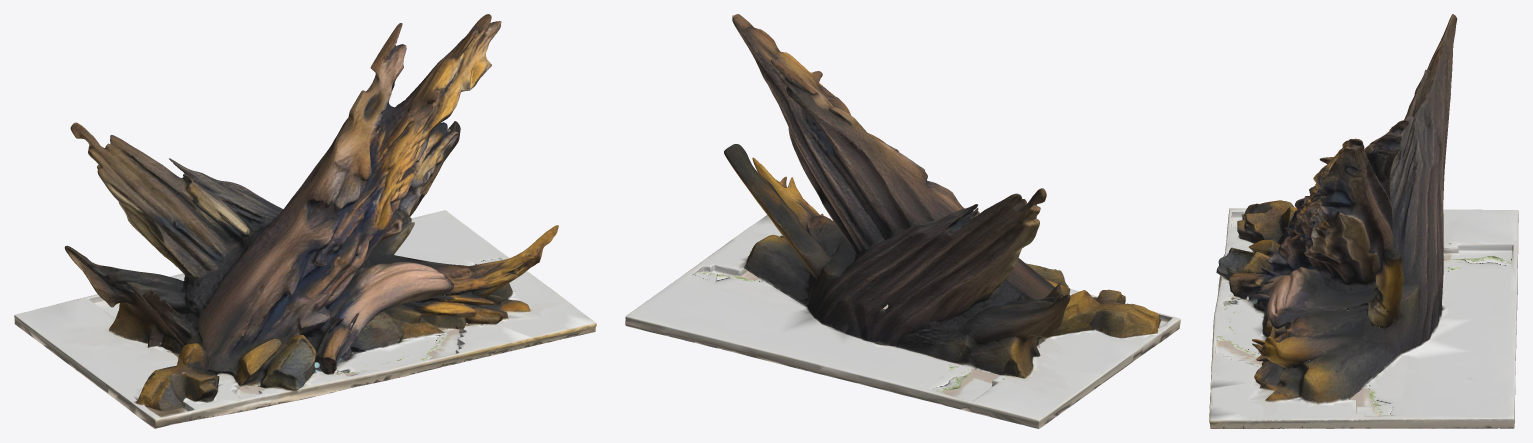
File: nature10-v7.glb
3 renders of one model, left to right at view 1: azimuth 30°, elevation 25°; view 2: azimuth 150°, elevation 25°; view 3: azimuth 270°, elevation 25°, orthographic. The views are drawn at different scales.
Visible parts, largest first — view 1: tripo_node_f580718a-828c-46c9-9f06-fc49a4ff210d; view 2: tripo_node_f580718a-828c-46c9-9f06-fc49a4ff210d; view 3: tripo_node_f580718a-828c-46c9-9f06-fc49a4ff210d.
Boxes of the visible parts, box(x1,y1,x2,y2) form: tripo_node_f580718a-828c-46c9-9f06-fc49a4ff210d: box(14, 14, 596, 428); tripo_node_f580718a-828c-46c9-9f06-fc49a4ff210d: box(625, 14, 1180, 428); tripo_node_f580718a-828c-46c9-9f06-fc49a4ff210d: box(1209, 14, 1518, 428).
Size of the model in its own units: 0.9991 by 0.603 by 0.6171.
Materials: 1 (1 with a texture image).
